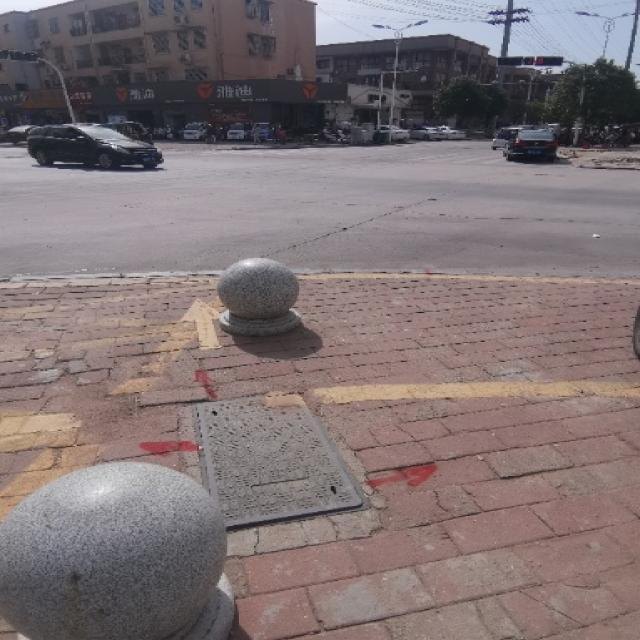Good: (180, 394, 371, 534)
